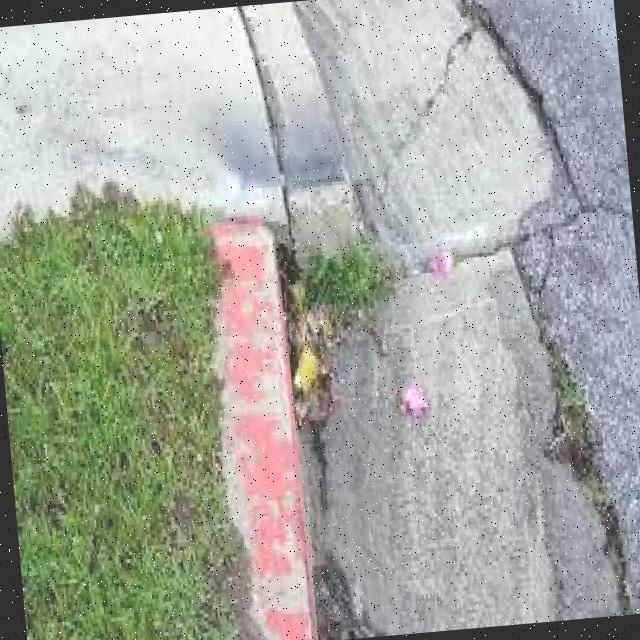curb: (213, 218, 321, 640)
